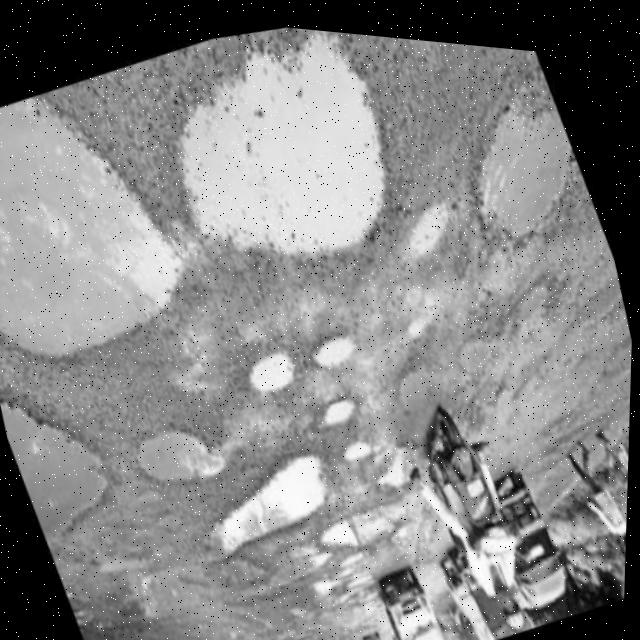Pothole: (109, 9, 440, 330), (0, 49, 223, 400), (419, 36, 603, 263), (0, 367, 145, 581), (160, 429, 353, 569), (112, 398, 253, 520), (199, 540, 366, 640), (89, 541, 215, 640), (307, 481, 418, 584), (366, 334, 468, 428), (222, 323, 313, 415), (352, 413, 444, 504), (382, 185, 481, 265), (242, 528, 344, 594), (196, 527, 275, 607), (495, 260, 577, 332), (320, 405, 396, 478), (384, 271, 458, 345), (296, 375, 377, 439), (565, 257, 632, 328), (427, 312, 500, 377), (56, 554, 109, 640), (311, 322, 370, 376), (457, 361, 510, 406), (146, 496, 200, 540), (397, 30, 497, 52), (601, 303, 634, 347), (145, 530, 181, 566)
